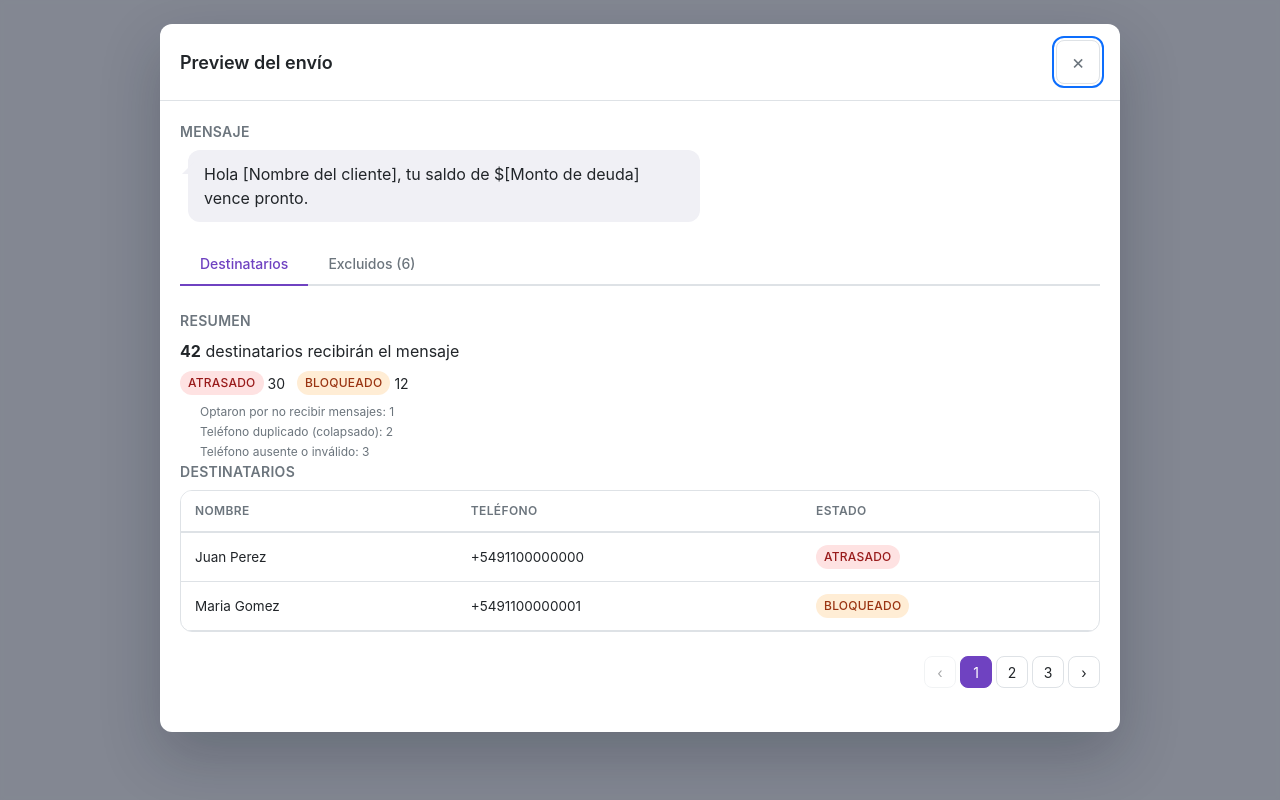
Test: CSV-FE-7: tab "Excluidos (N)" › al abrir la pestaña, pide listExcludedRecipients y muestra nombre+teléfono+motivo+fuente
expect the text "Juan Perez" is shown: met, box [181,532,457,582]
Click the tab "Excluidos (6)" at x=372, y=264, box [308,242,435,286]
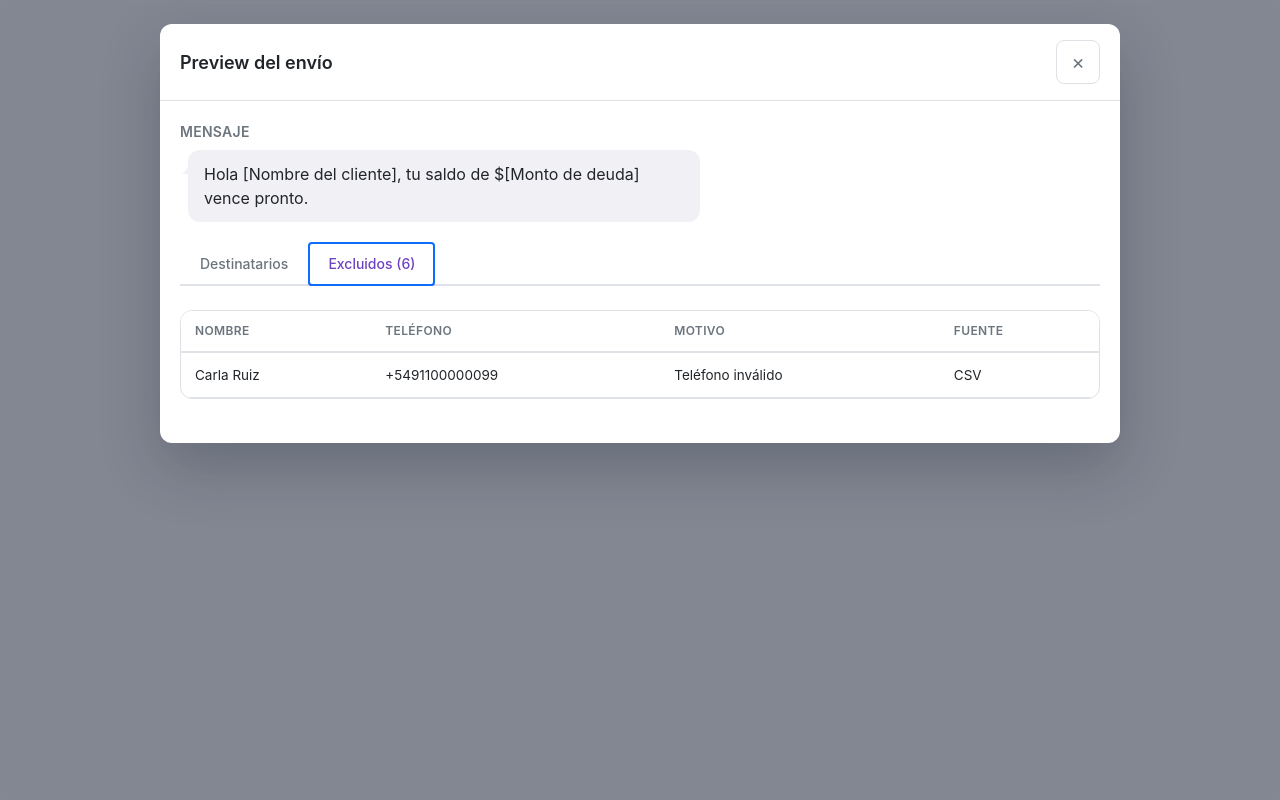
expect the text "Carla Ruiz" is shown: met, box [181,352,371,398]
expect the text "+5491100000099" is shown: met, box [371,352,660,398]
expect the text "Teléfono inválido" is shown: met, box [674,365,782,385]
